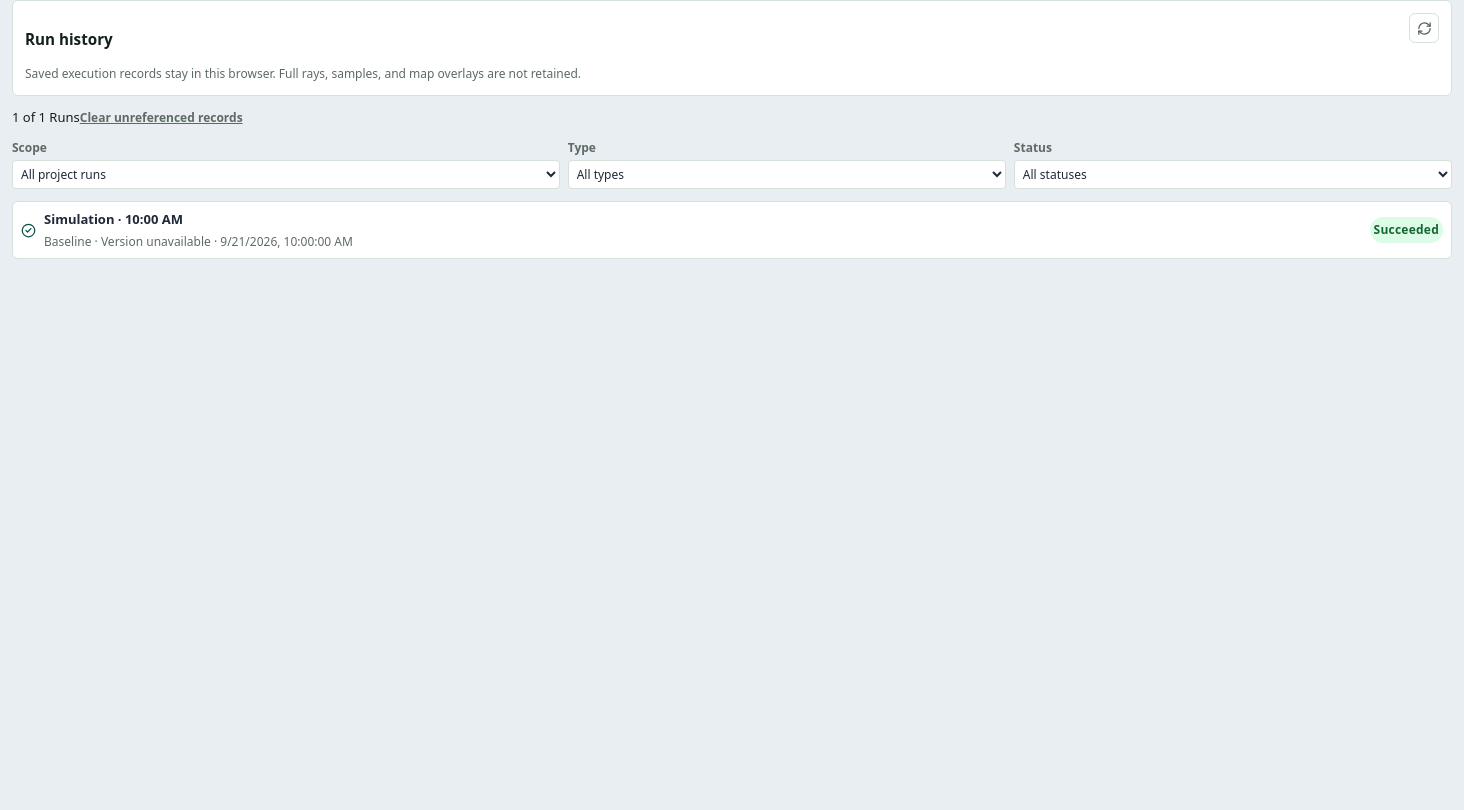
Test: RunHistoryPanel › marks a missing source Version unavailable and does not offer misleading navigation
Click the button with aria-label "Open Simulation · 10:00 AM, Succeeded, Baseline · Version un". click: coordinates (113, 219)
box: [13,202,1451,258]
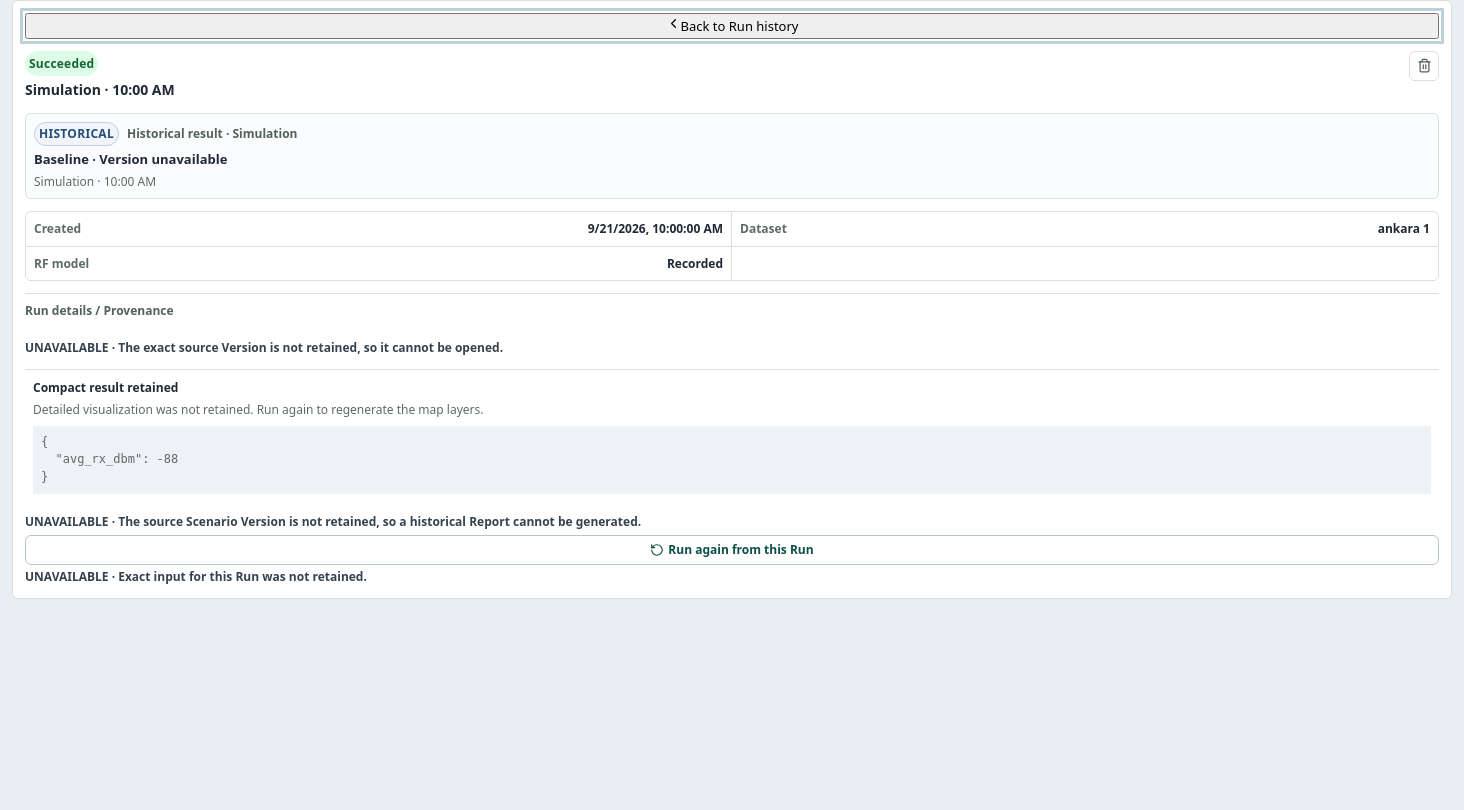
Expected: the text "UNAVAILABLE · The exact source Version is not retained" is shown, [25,339,503,356]
Expected: the element named "Run run-1 details" shows "Version unavailable", [34,150,227,168]
